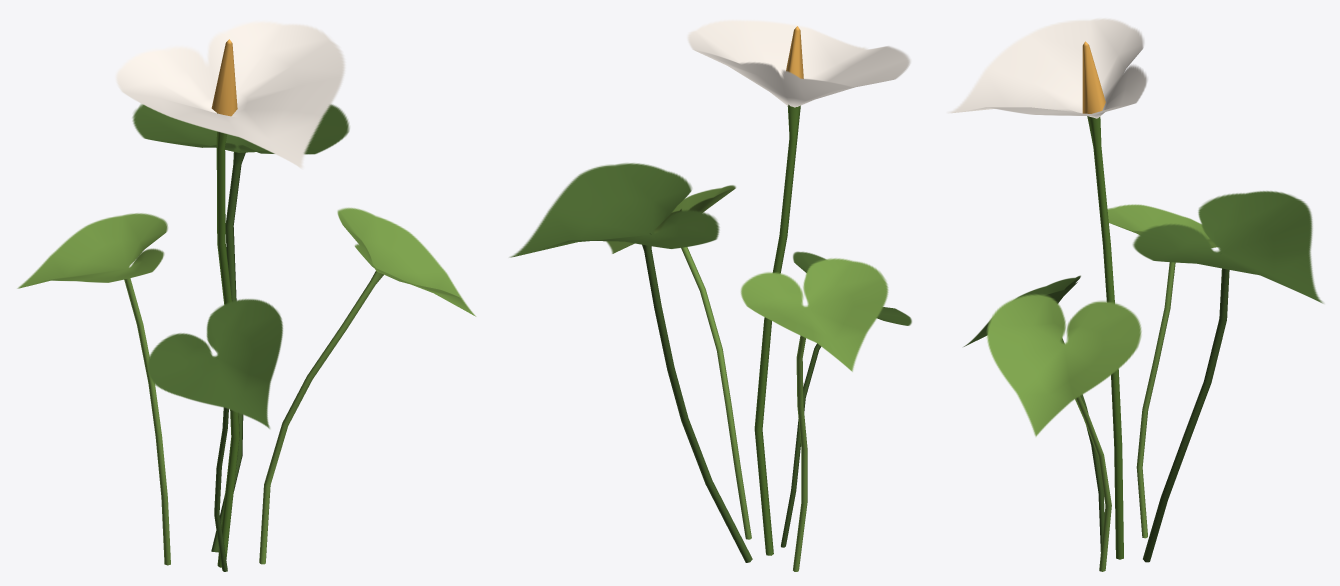
The model's file is Swamp_Calla_1.gltf.
3 renders of one model, left to right at view 1: azimuth 30°, elevation 25°; view 2: azimuth 150°, elevation 25°; view 3: azimuth 270°, elevation 25°, orthographic. The views are drawn at different scales.
Parts seen in each view (by area): view 1: Swamp_Calla_1; view 2: Swamp_Calla_1; view 3: Swamp_Calla_1.
Part boxes in pixels (bbox=[...]): Swamp_Calla_1: bbox=[17, 20, 476, 571]; Swamp_Calla_1: bbox=[509, 19, 911, 571]; Swamp_Calla_1: bbox=[947, 18, 1323, 571].
Size of the model in its own units: 0.4099 by 0.5906 by 0.3988.
Materials: 1 (1 with a texture image).
